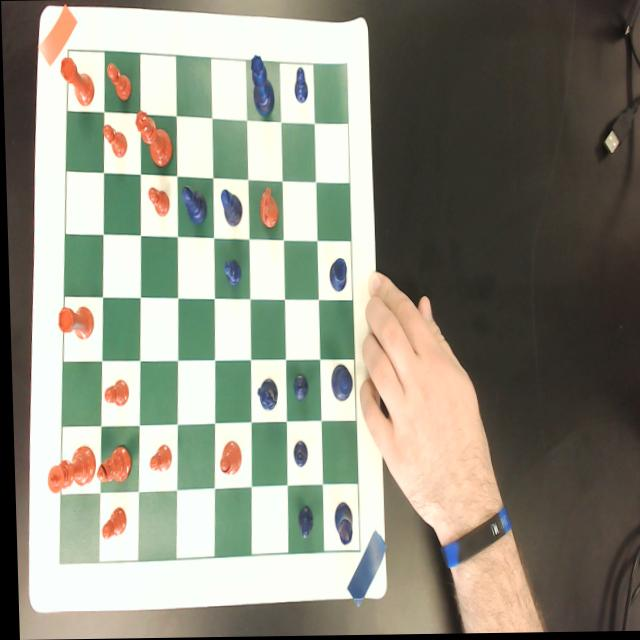B: (179, 184, 205, 226), (218, 187, 240, 227)
K: (327, 364, 350, 403)
N: (253, 378, 275, 413)
P: (292, 65, 308, 105), (293, 505, 310, 539), (221, 258, 239, 287), (289, 373, 306, 402), (289, 440, 304, 468)
Q: (249, 54, 273, 117)
R: (330, 502, 349, 545), (326, 257, 345, 293)
b: (92, 445, 129, 489), (215, 440, 238, 476)
k: (43, 443, 92, 494)
n: (257, 186, 277, 229)
p: (105, 62, 131, 102), (100, 122, 126, 158), (97, 505, 123, 540), (144, 442, 169, 472), (145, 185, 168, 217), (100, 378, 126, 406)
q: (133, 109, 172, 167)
r: (58, 54, 95, 107), (54, 301, 92, 341)
